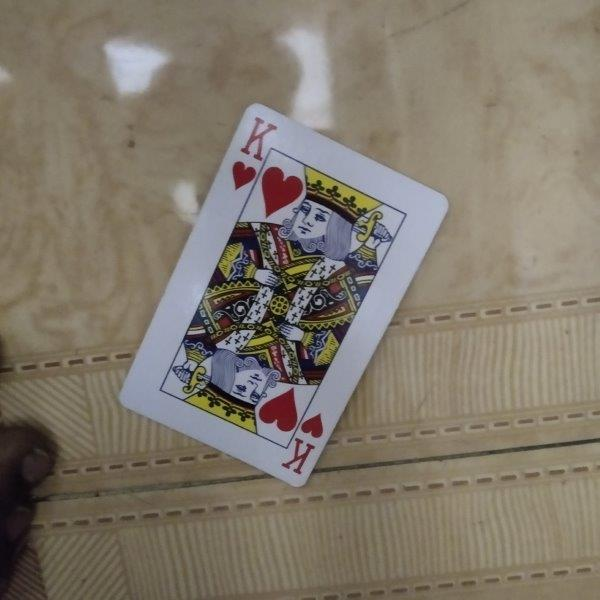King of Hearts: (117, 101, 450, 489)
